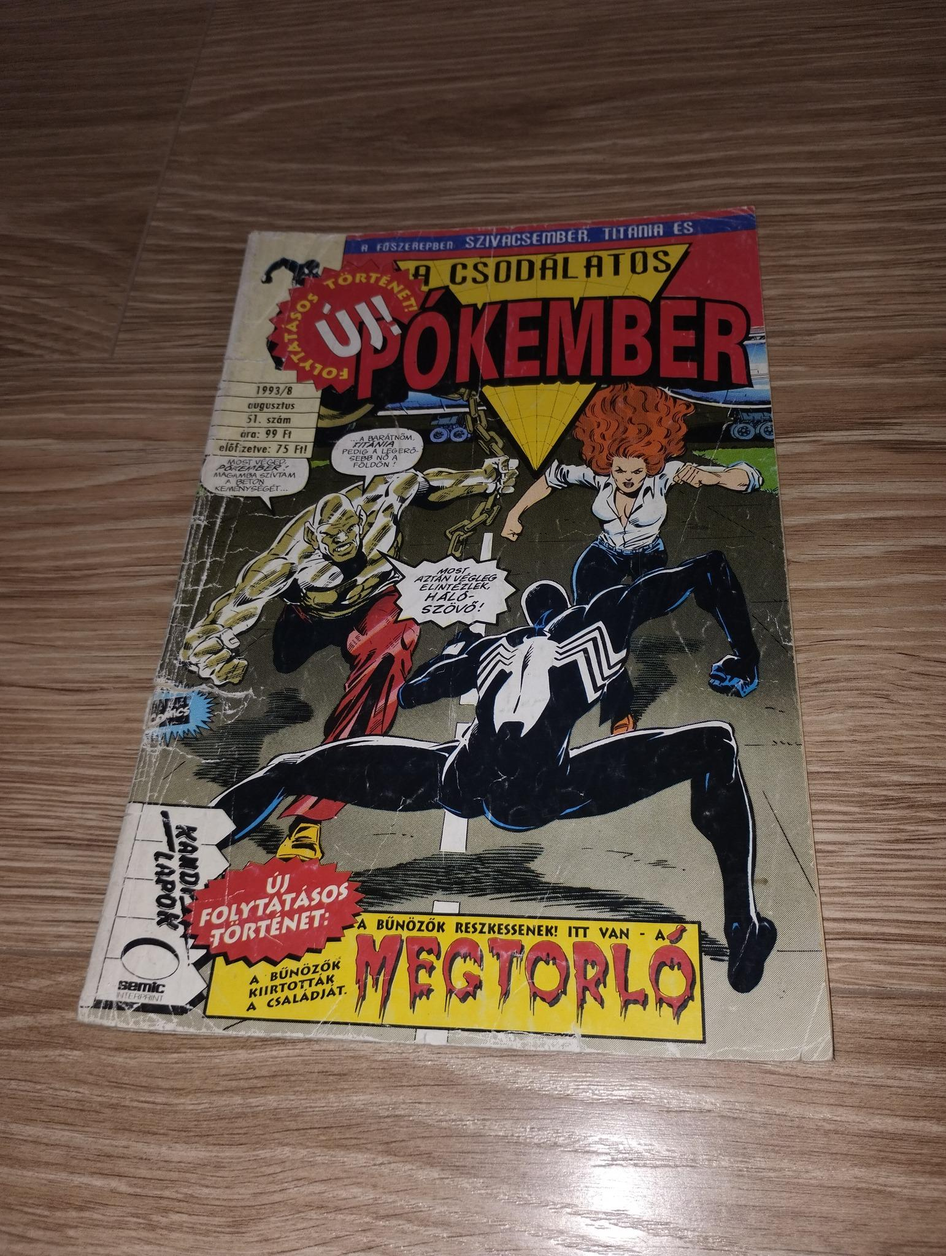comic: (79, 193, 852, 1059)
